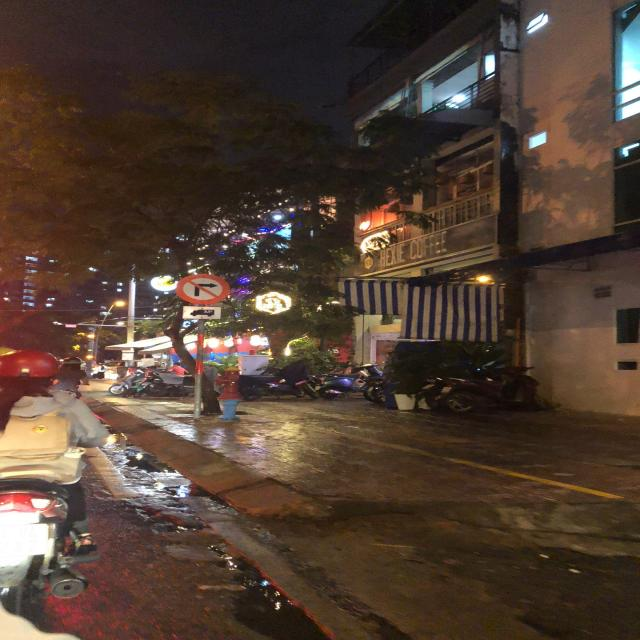Bien bao cam re phai: (174, 269, 232, 304)
